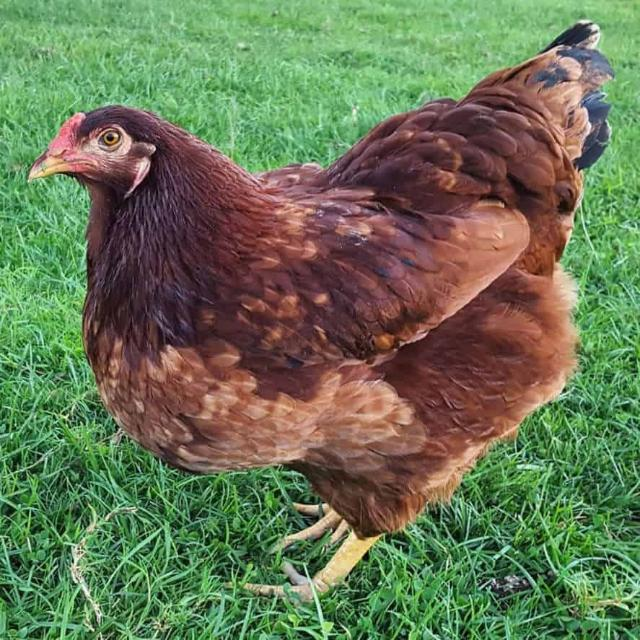Chicken: (26, 19, 617, 599)
